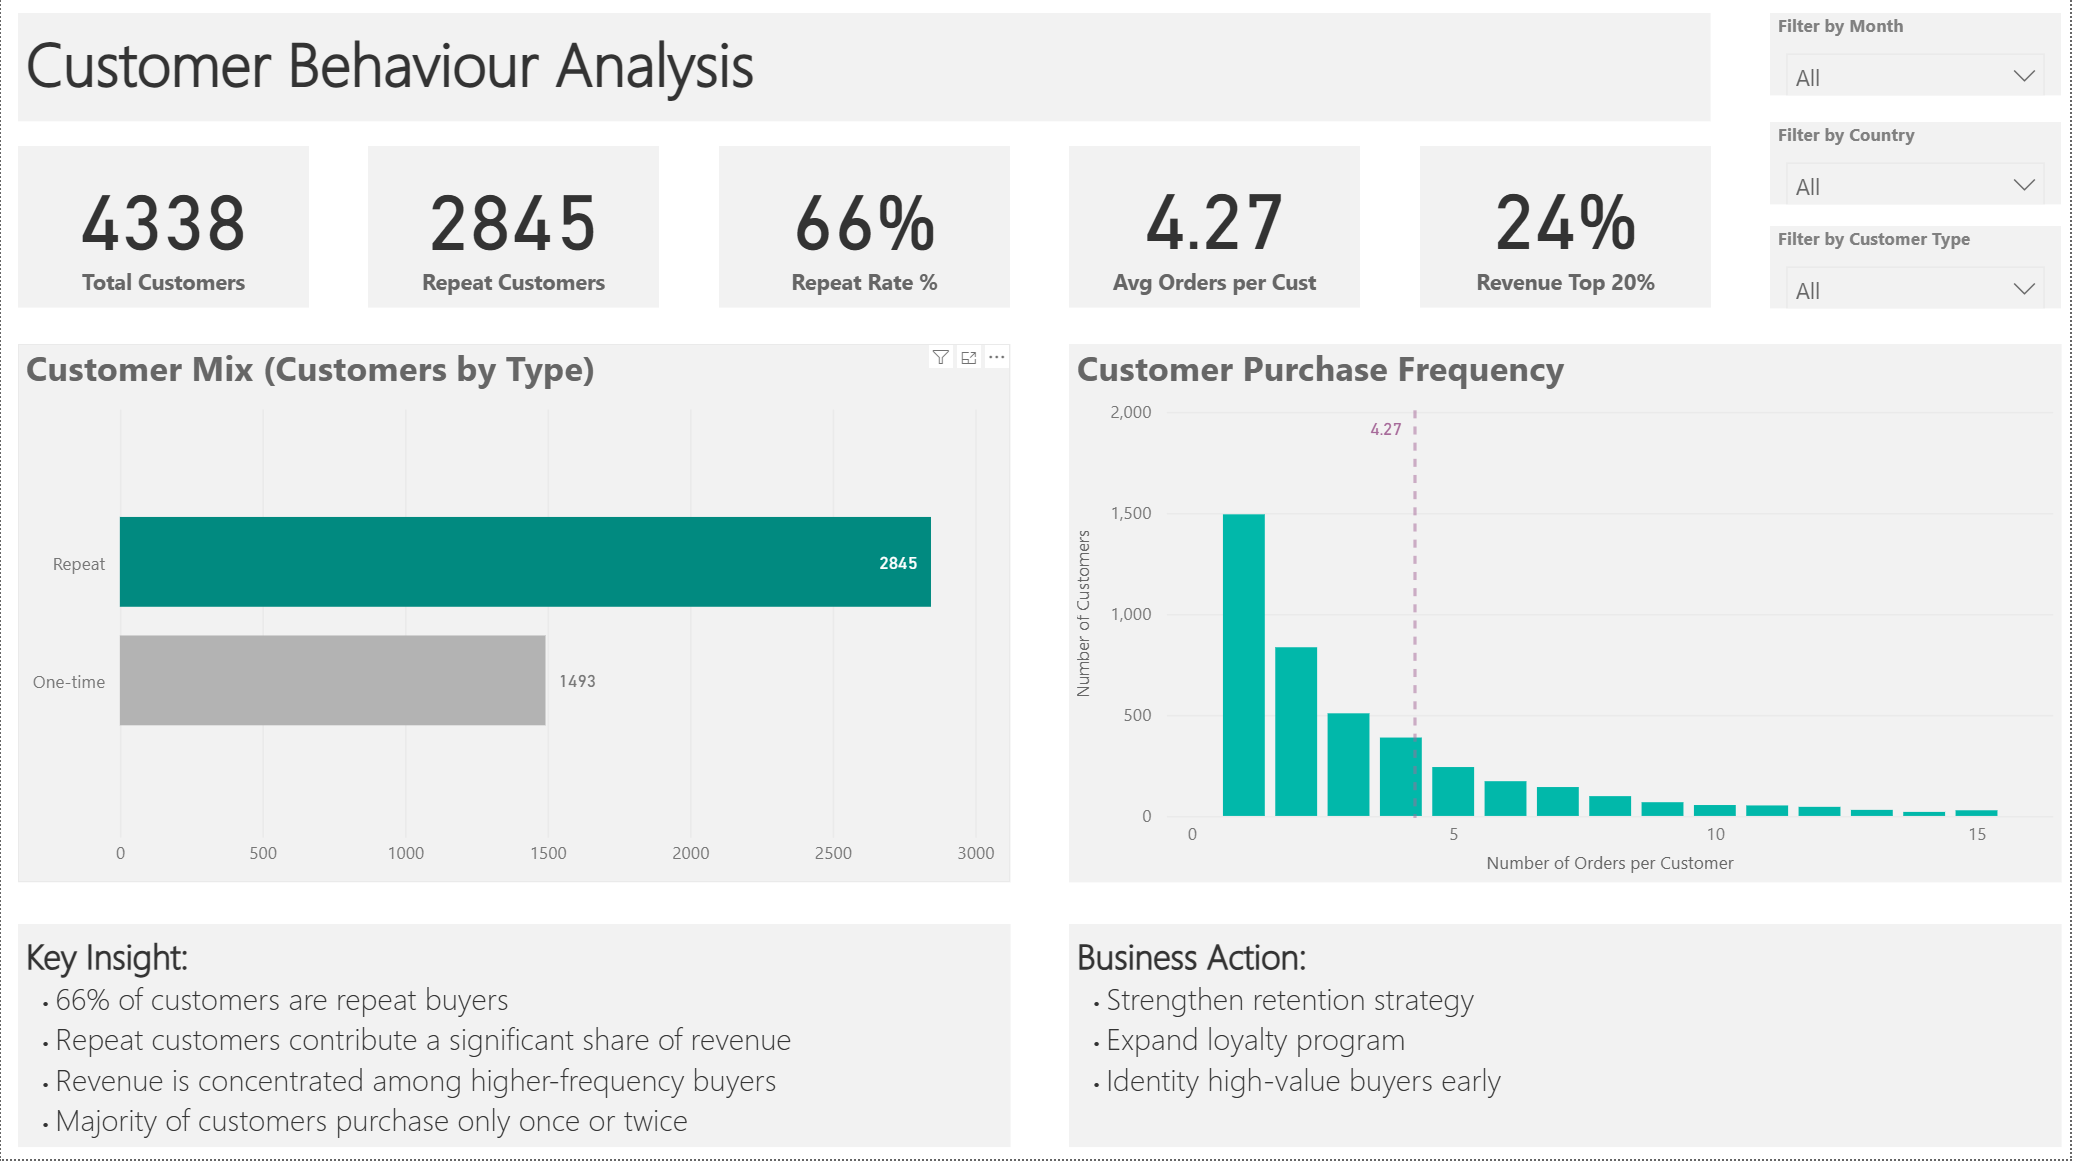

The page's visual inventory and layout, read from the dashboard file:
{"tool":"powerbi","page":{"name":"Customer Behaviour Analysis","canvas":[1280,720],"ordinal":1},"visuals":[{"type":"card","fields":{"Values":["public v_retail_clean.Total Customers"]},"box":[10.5,93.4,180,100.2],"z":0},{"type":"card","fields":{"Values":["public v_retail_clean.Repeat Customers"]},"box":[227.3,93.4,180,100.2],"z":1000},{"type":"card","fields":{"Values":["public v_retail_clean.Repeat Rate %"]},"box":[444,93.4,180,100.2],"z":2000},{"type":"card","fields":{"Values":["public v_retail_clean.Revenue Top 20 %"]},"box":[877.5,93.4,180,99.6],"z":3000},{"type":"textbox","box":[10.5,11.1,1047.2,67.4],"z":4000},{"type":"barChart","title":"Customer Mix (Customers by Type)","fields":{"Category":["Customer Type.CustomerType"],"Y":["Customer Type.Customers by Type"]},"box":[10.5,215.8,613.5,332.9],"z":5000},{"type":"clusteredColumnChart","title":"Customer Purchase Frequency","fields":{"Category":["public v_retail_clean.Customer Order Count"],"Y":["Count(public v_retail_clean.customer_id)"]},"box":[660.6,215.8,613.5,332.9],"z":6000},{"type":"textbox","box":[10.5,574.9,613.5,138],"z":7000},{"type":"card","fields":{"Values":["public v_retail_clean.Avg Orders per Customer"]},"box":[660.7,93.4,180,99.6],"z":8000},{"type":"textbox","box":[660.6,574.9,613.5,138],"z":9000},{"type":"slicer","title":"Filter by Customer Type","fields":{"Values":["Customer Type.CustomerType"]},"box":[1094.2,142.9,180,50.7],"z":10000},{"type":"slicer","title":"Filter by Month","fields":{"Values":["public v_retail_clean.Month"]},"box":[1094.2,11.1,180,51.3],"z":11000},{"type":"slicer","title":"Filter by Country","fields":{"Values":["public v_retail_clean.country"]},"box":[1094.2,78.6,180,51.3],"z":12000}]}

Visuals, with their boxes in screenshot pixels (x1, y1, x2, y2), scaled from the page's 1280x720 canvas onto the 2073x1163 screenshot:
card - public v_retail_clean.Total Customers: rect(17, 151, 309, 313)
card - public v_retail_clean.Repeat Customers: rect(368, 151, 660, 313)
card - public v_retail_clean.Repeat Rate %: rect(719, 151, 1011, 313)
card - public v_retail_clean.Revenue Top 20 %: rect(1421, 151, 1713, 312)
textbox: rect(17, 18, 1713, 127)
"Customer Mix (Customers by Type)" barChart: rect(17, 349, 1011, 886)
"Customer Purchase Frequency" clusteredColumnChart: rect(1070, 349, 2063, 886)
textbox: rect(17, 929, 1011, 1152)
card - public v_retail_clean.Avg Orders per Customer: rect(1070, 151, 1362, 312)
textbox: rect(1070, 929, 2063, 1152)
"Filter by Customer Type" slicer: rect(1772, 231, 2064, 313)
"Filter by Month" slicer: rect(1772, 18, 2064, 101)
"Filter by Country" slicer: rect(1772, 127, 2064, 210)
